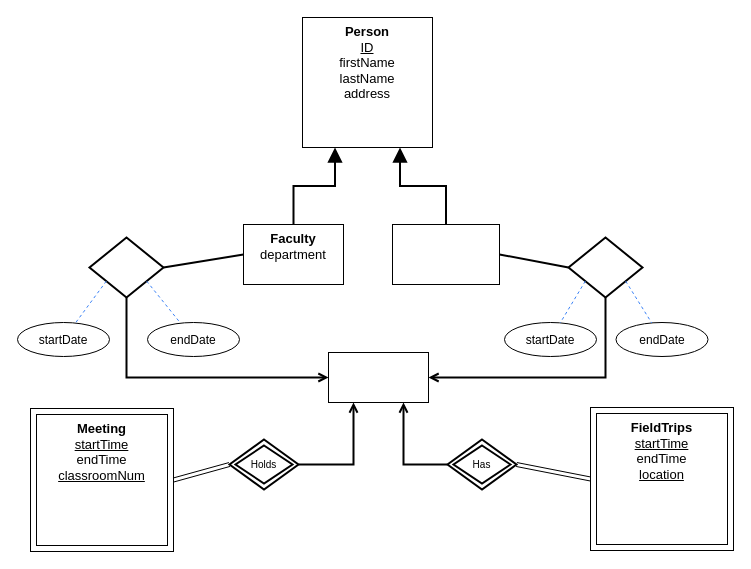
Some shapes in this 751 by 569 pixel diagram are drawn without their labels. The shapes that lost their labels are listed below. From the top down, each one's centre as x and y in pixels, then its label:
the point at 126,267: Advisor
the point at 446,254: Student grade
the point at 605,267: Membership
the point at 378,377: Club clubName
